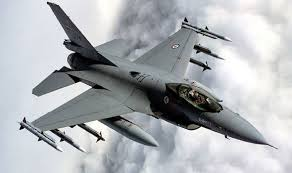fighter: (15, 1, 272, 155)
